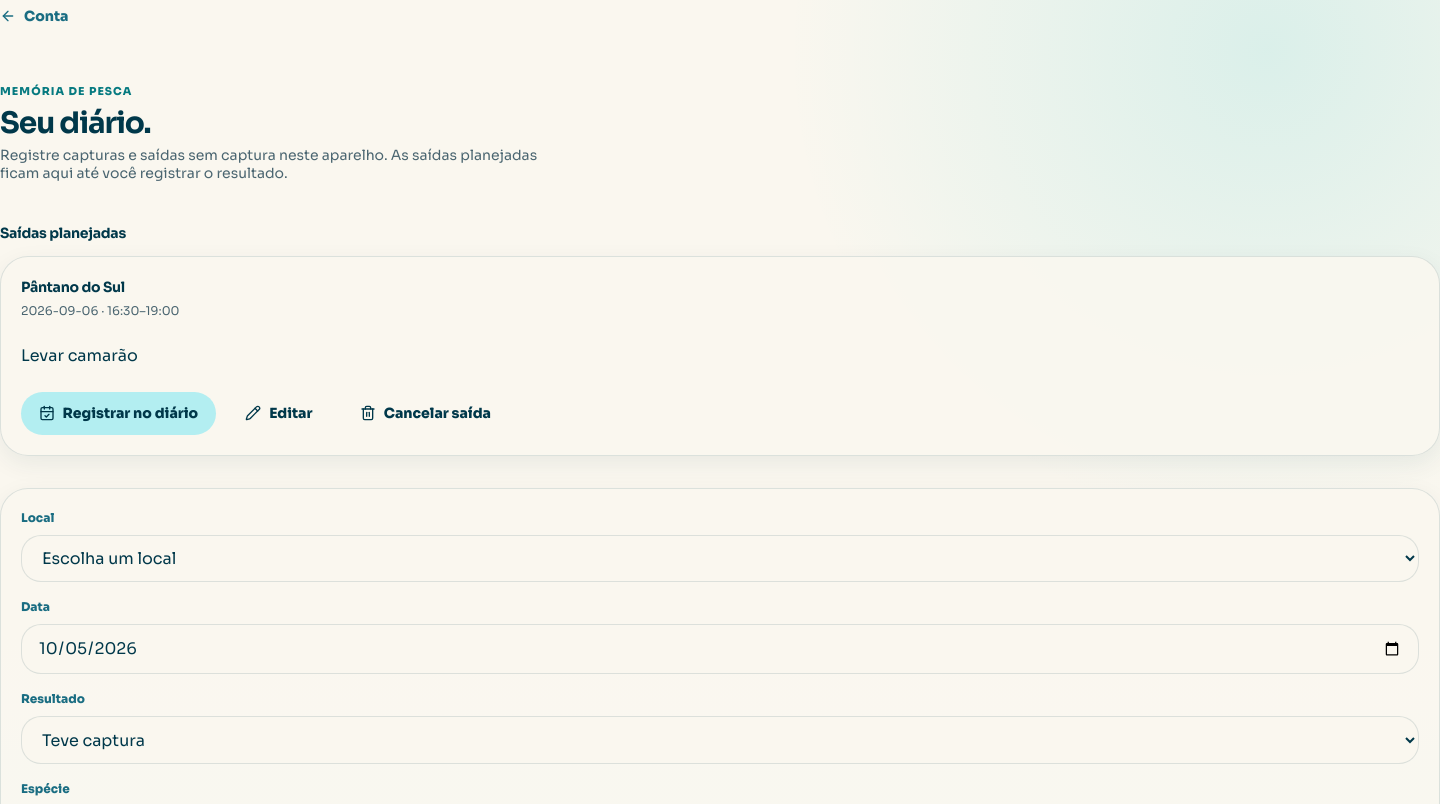
it: DiaryPage › preenche o diário a partir de uma saída planejada
What coordinates should you click on to do the following:
click the button "Registrar no diário"
I would click on:
 (118, 414)
Its box is [21,392,216,435].
(page scrolled)
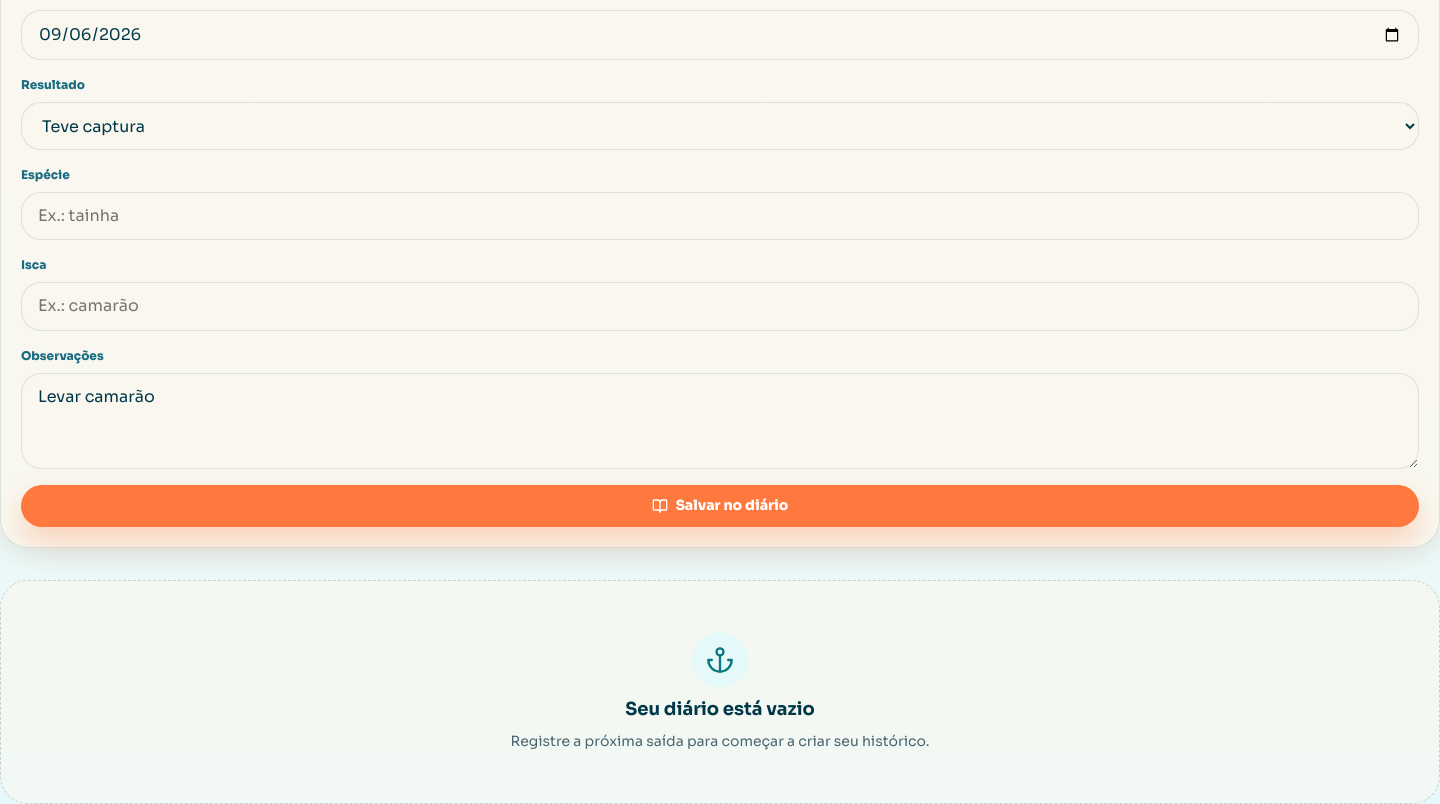
Now the date field labelled "Data" holds "2026-09-06", box [21,10,1419,60]
Now the text box labelled "Observações" holds "Levar camarão", box [21,372,1419,468]
What coordinates should you click on to do the following:
click the button "Salvar no diário"
I would click on:
 (720, 506)
Its box is [21,484,1419,527].
(page scrolled)
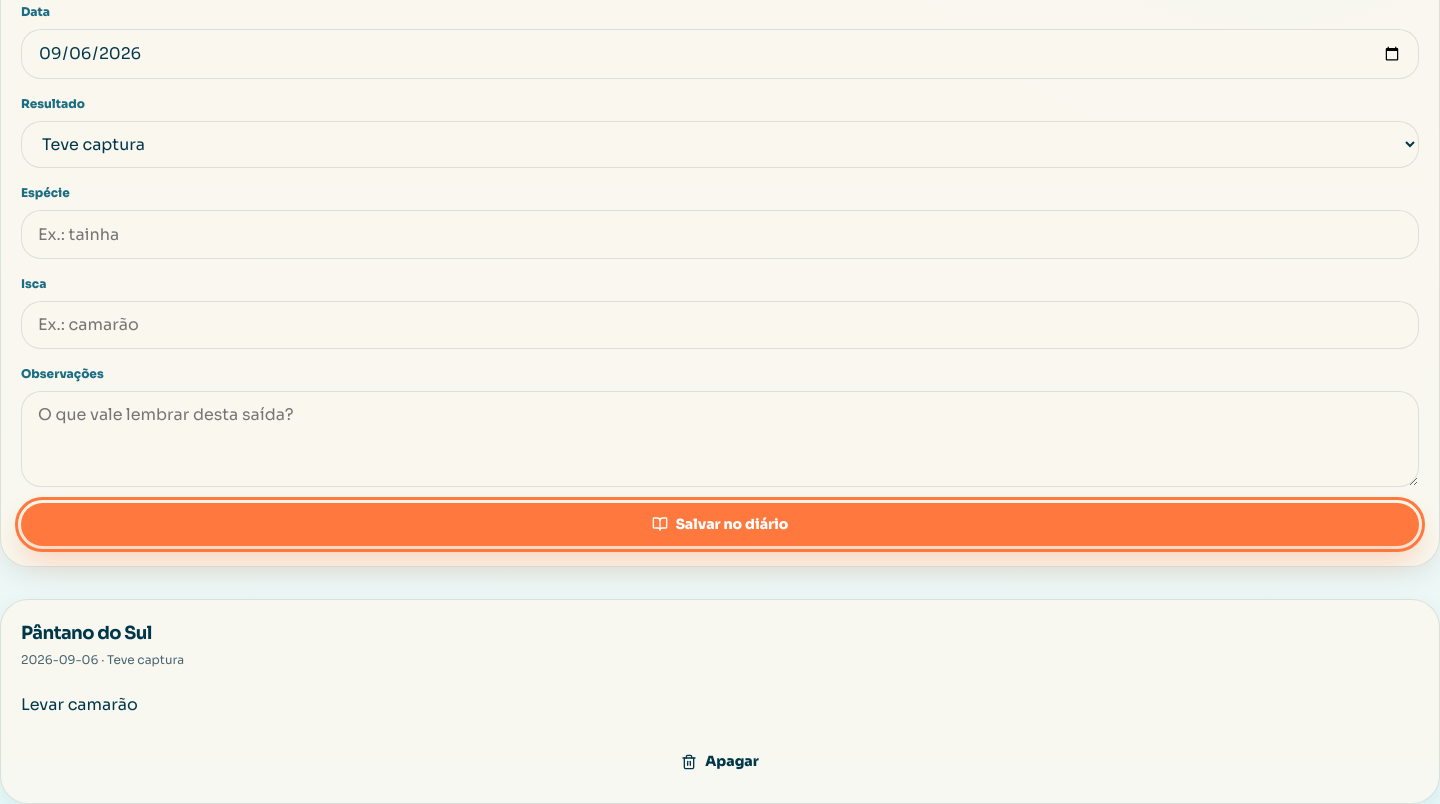
Expected: the heading "Saídas planejadas" is not shown
Now the text "2026-09-06 · Teve captura" is shown, box [21,652,184,666]
